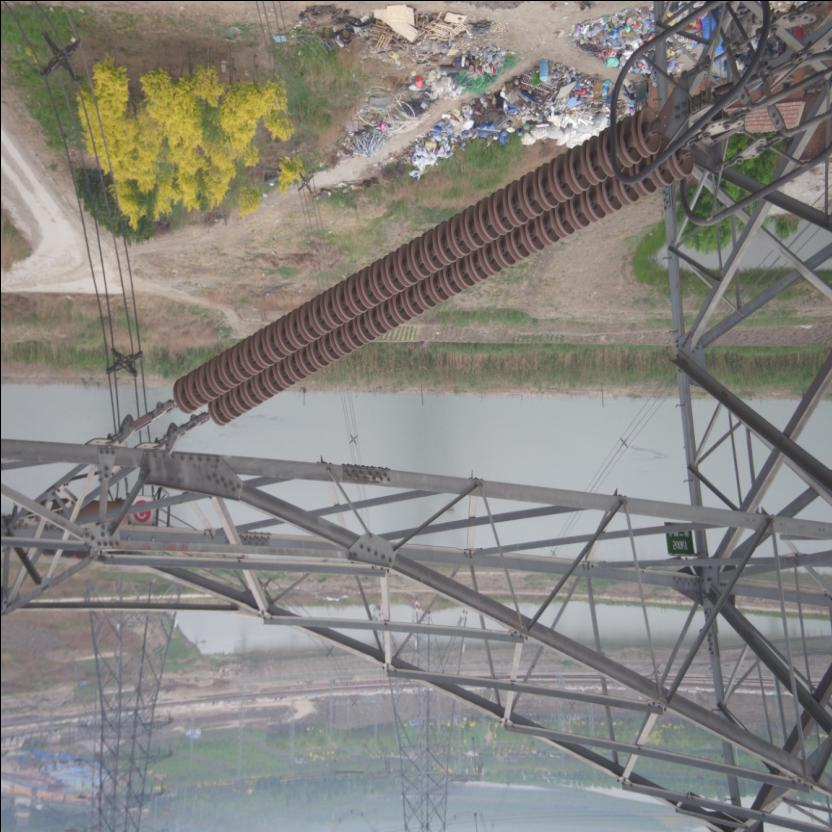insulator: (154, 98, 706, 437)
